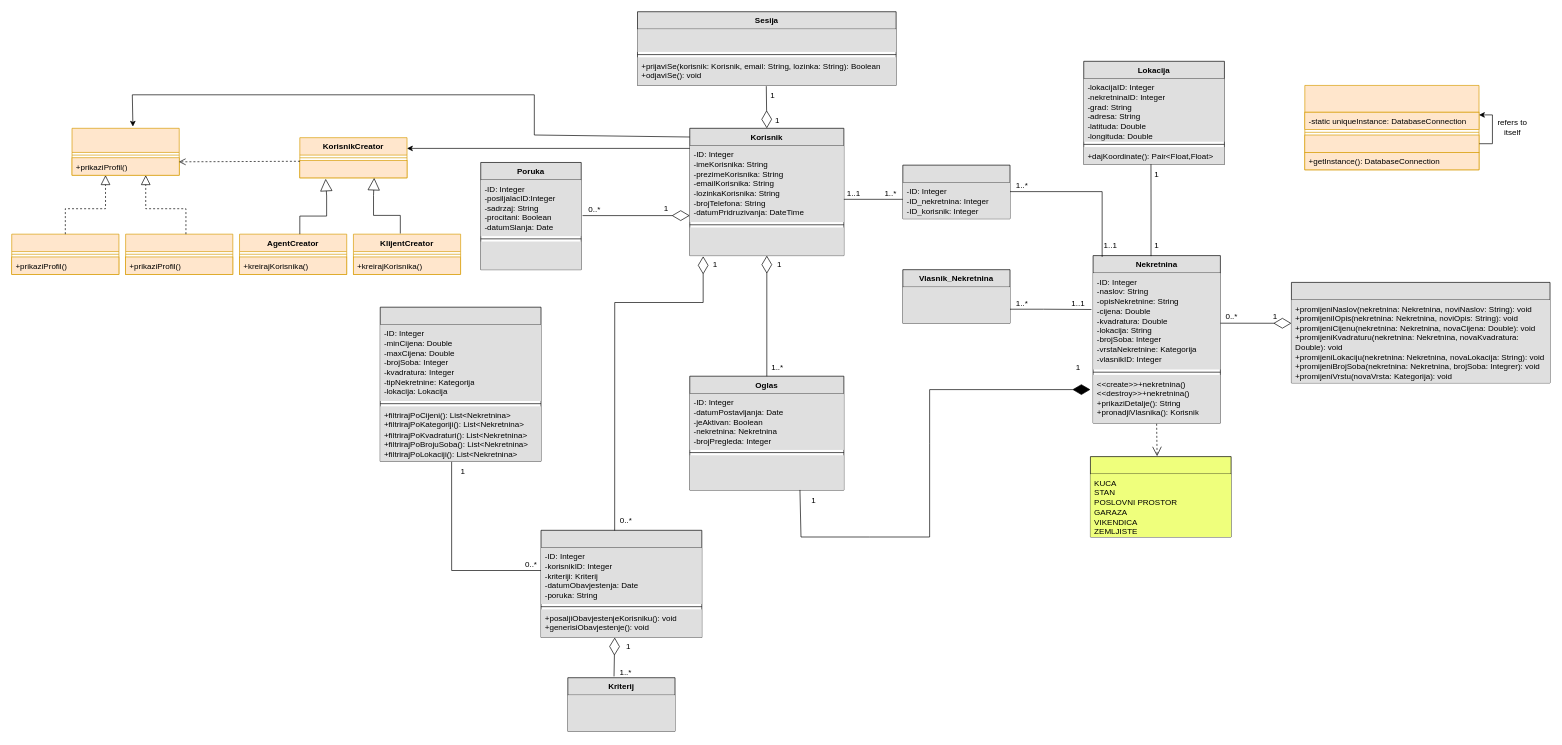
Image size: 1562x745. Some labels were removed from this diagram. Here are the shapes that lost their labels. From the top down, the box of each, then its label:
(637, 29, 896, 52): -sesijaId: Integer -prijavljeniKorisnik: Korisnik
(1304, 85, 1479, 170): <<interface>> DatabaseConnection
(1304, 134, 1479, 152): -DatabaseConnection()
(71, 128, 179, 175): <<interface>> IKorisnik
(299, 160, 407, 178): +kreirajKorisnika(): Korisnik
(902, 164, 1010, 219): KorisnikNekretnina
(11, 233, 119, 274): Agent
(125, 233, 233, 274): Klijent
(480, 241, 581, 269): +posalji(): void +prikaziDetalje(): String
(689, 227, 844, 255): <<create>>+korisnik() +prikaziProfil(): String
(902, 287, 1010, 323): -ID: Integer -ID_vlasnik: Integer -ID_nekretnina: Integer
(1291, 282, 1550, 383): NekretninaService
(380, 307, 541, 461): FilterNekretnina
(689, 455, 844, 490): +aktivirajOglas(): void +deaktivirajOglas(): void +prikaziStatistiku(): String
(1090, 456, 1231, 537): <<enumeration>> Kategorija
(540, 530, 702, 638): Obavještenje
(567, 695, 675, 731): -ID: Integer -obavjestenjeID: Integer -vrijednost: String
